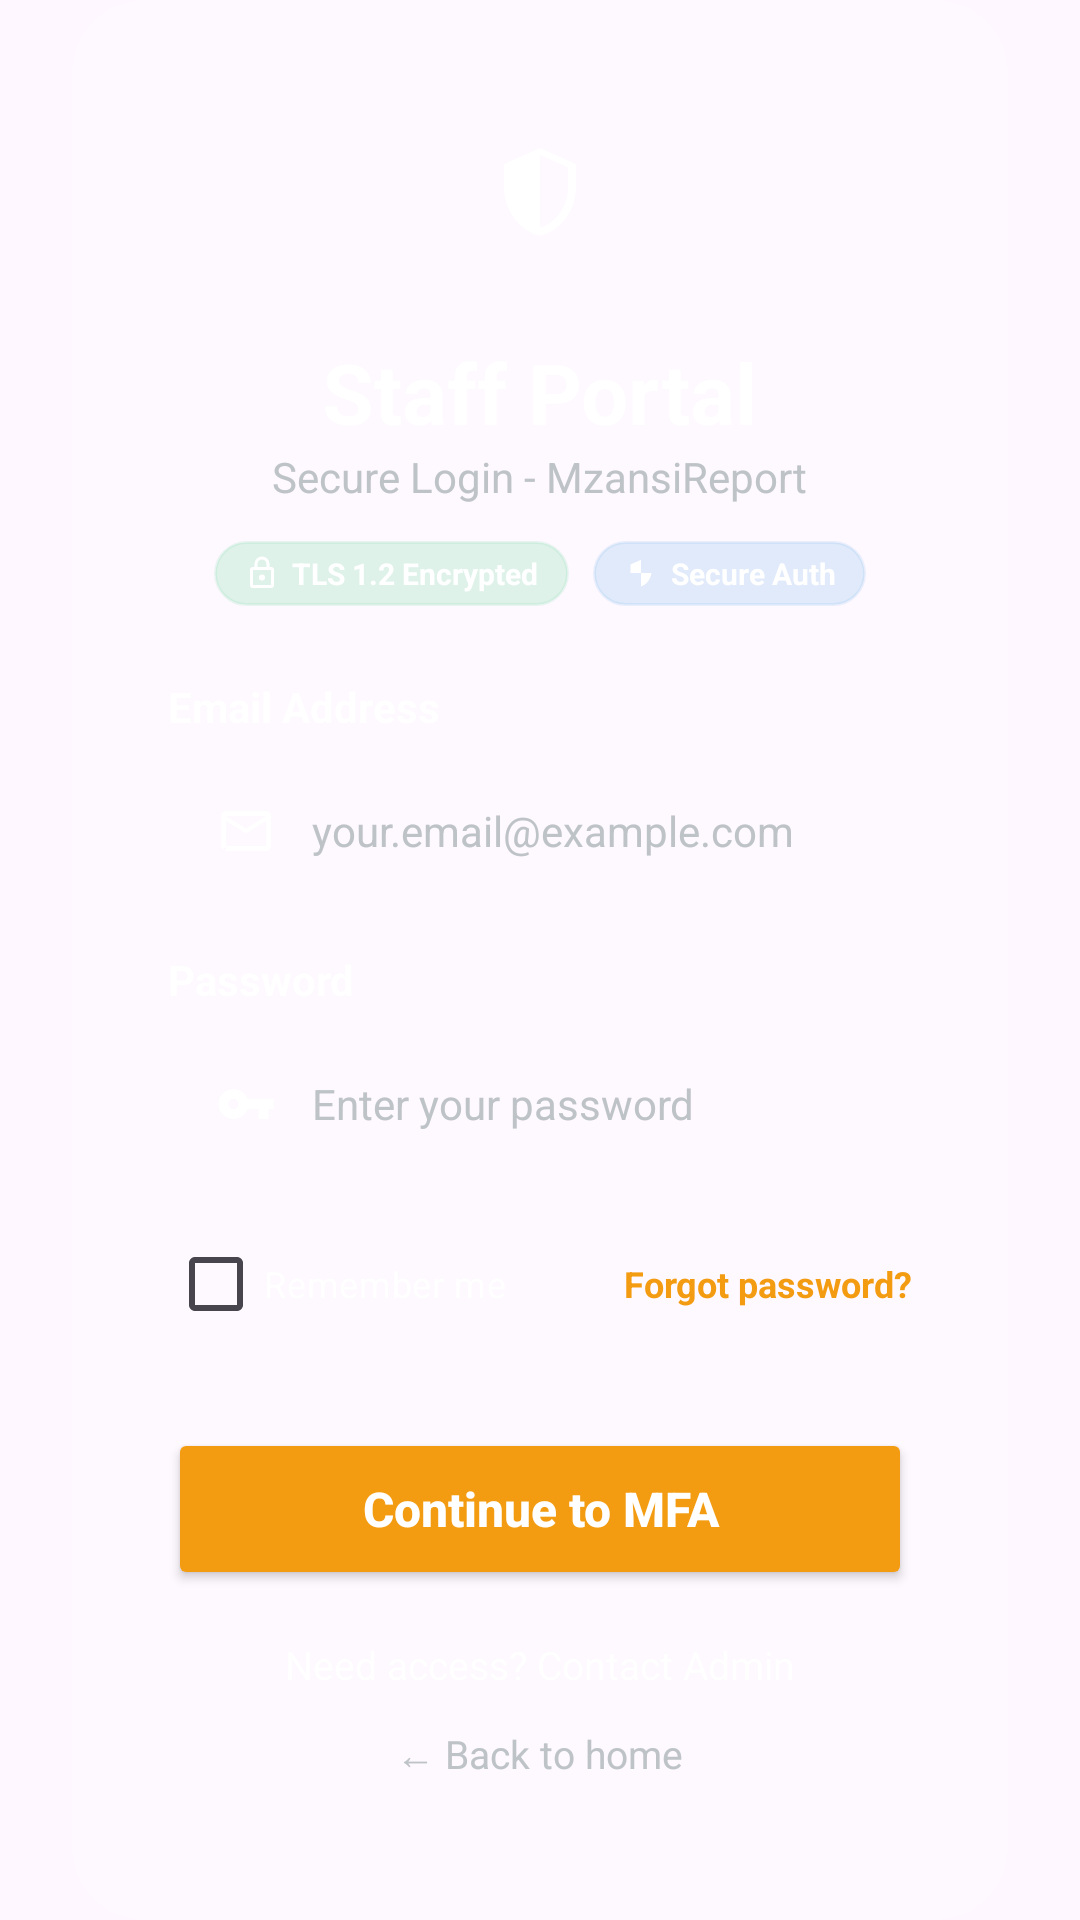

Icons on this 1080px×1920px Android screen, each with its box as (x1, y1, x2, y2):
lock: (250, 557, 274, 588)
